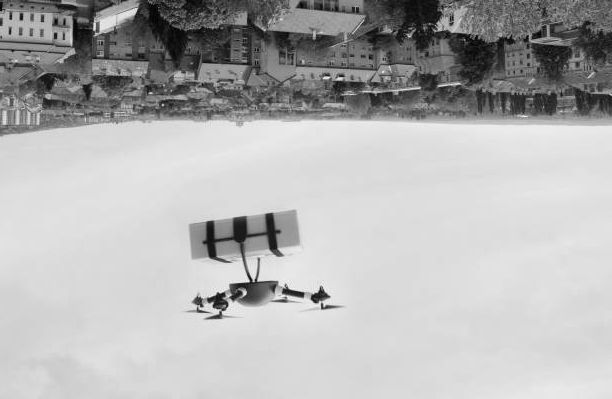Drone: (181, 279, 344, 327)
